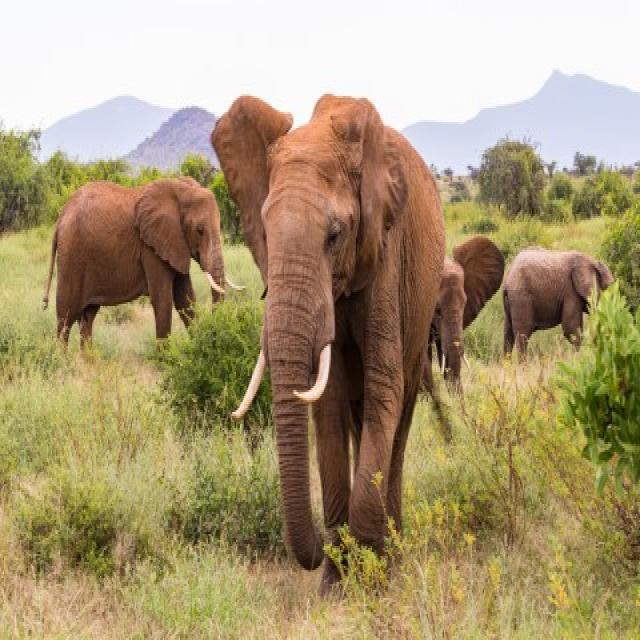Elephant: (209, 60, 454, 588), (36, 162, 228, 367), (506, 207, 618, 362)
